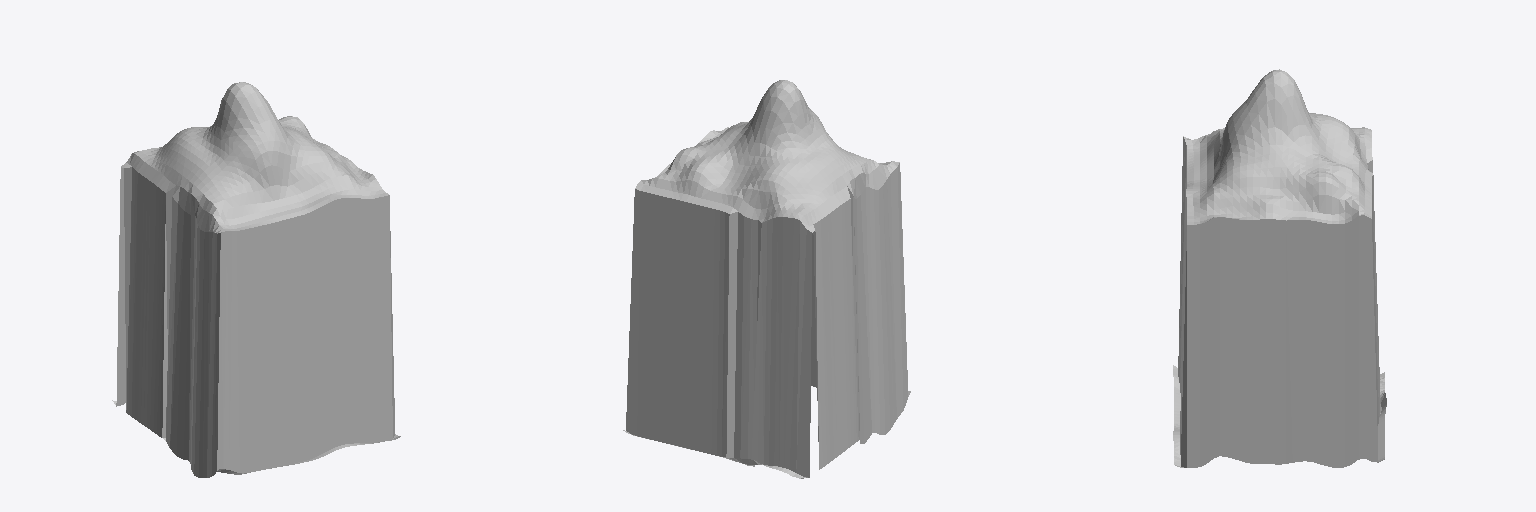
The model's file is volcano.obj.
3 views of the same model, side by side, from view 1: azimuth 30°, elevation 25°; view 2: azimuth 150°, elevation 25°; view 3: azimuth 270°, elevation 25° (orthographic).
Visible parts, largest first — view 1: Plane; view 2: Plane; view 3: Plane.
Boxes of the visible parts, <box> form: Plane: <box>112,82,400,477</box>; Plane: <box>623,80,910,478</box>; Plane: <box>1173,69,1386,467</box>.
Size of the model in its own units: 4.22 by 7.69 by 4.2.